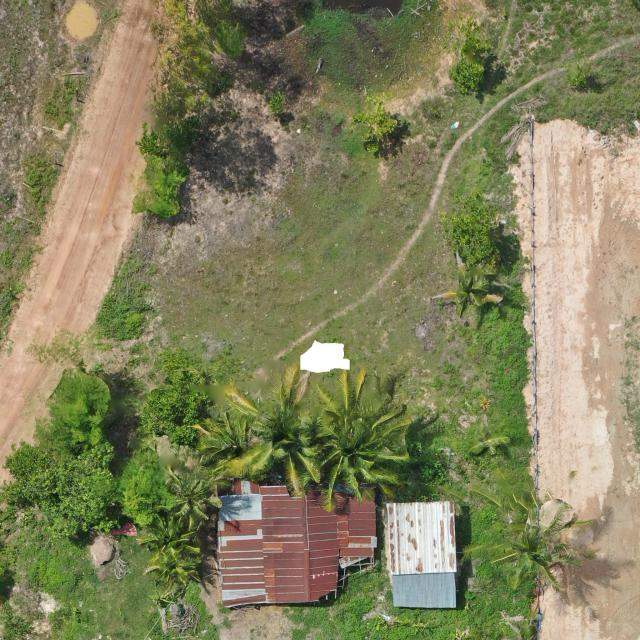Tree: (294, 367, 414, 515), (211, 362, 324, 498), (467, 492, 598, 592), (2, 440, 118, 540), (144, 0, 228, 130), (32, 363, 114, 464), (124, 121, 186, 222), (132, 369, 211, 448), (438, 189, 503, 275), (430, 248, 506, 318), (115, 446, 182, 525), (439, 16, 494, 98), (160, 463, 222, 532), (192, 413, 253, 467), (349, 93, 398, 154), (143, 547, 205, 586), (136, 516, 198, 554), (558, 50, 594, 89), (269, 90, 285, 116)
